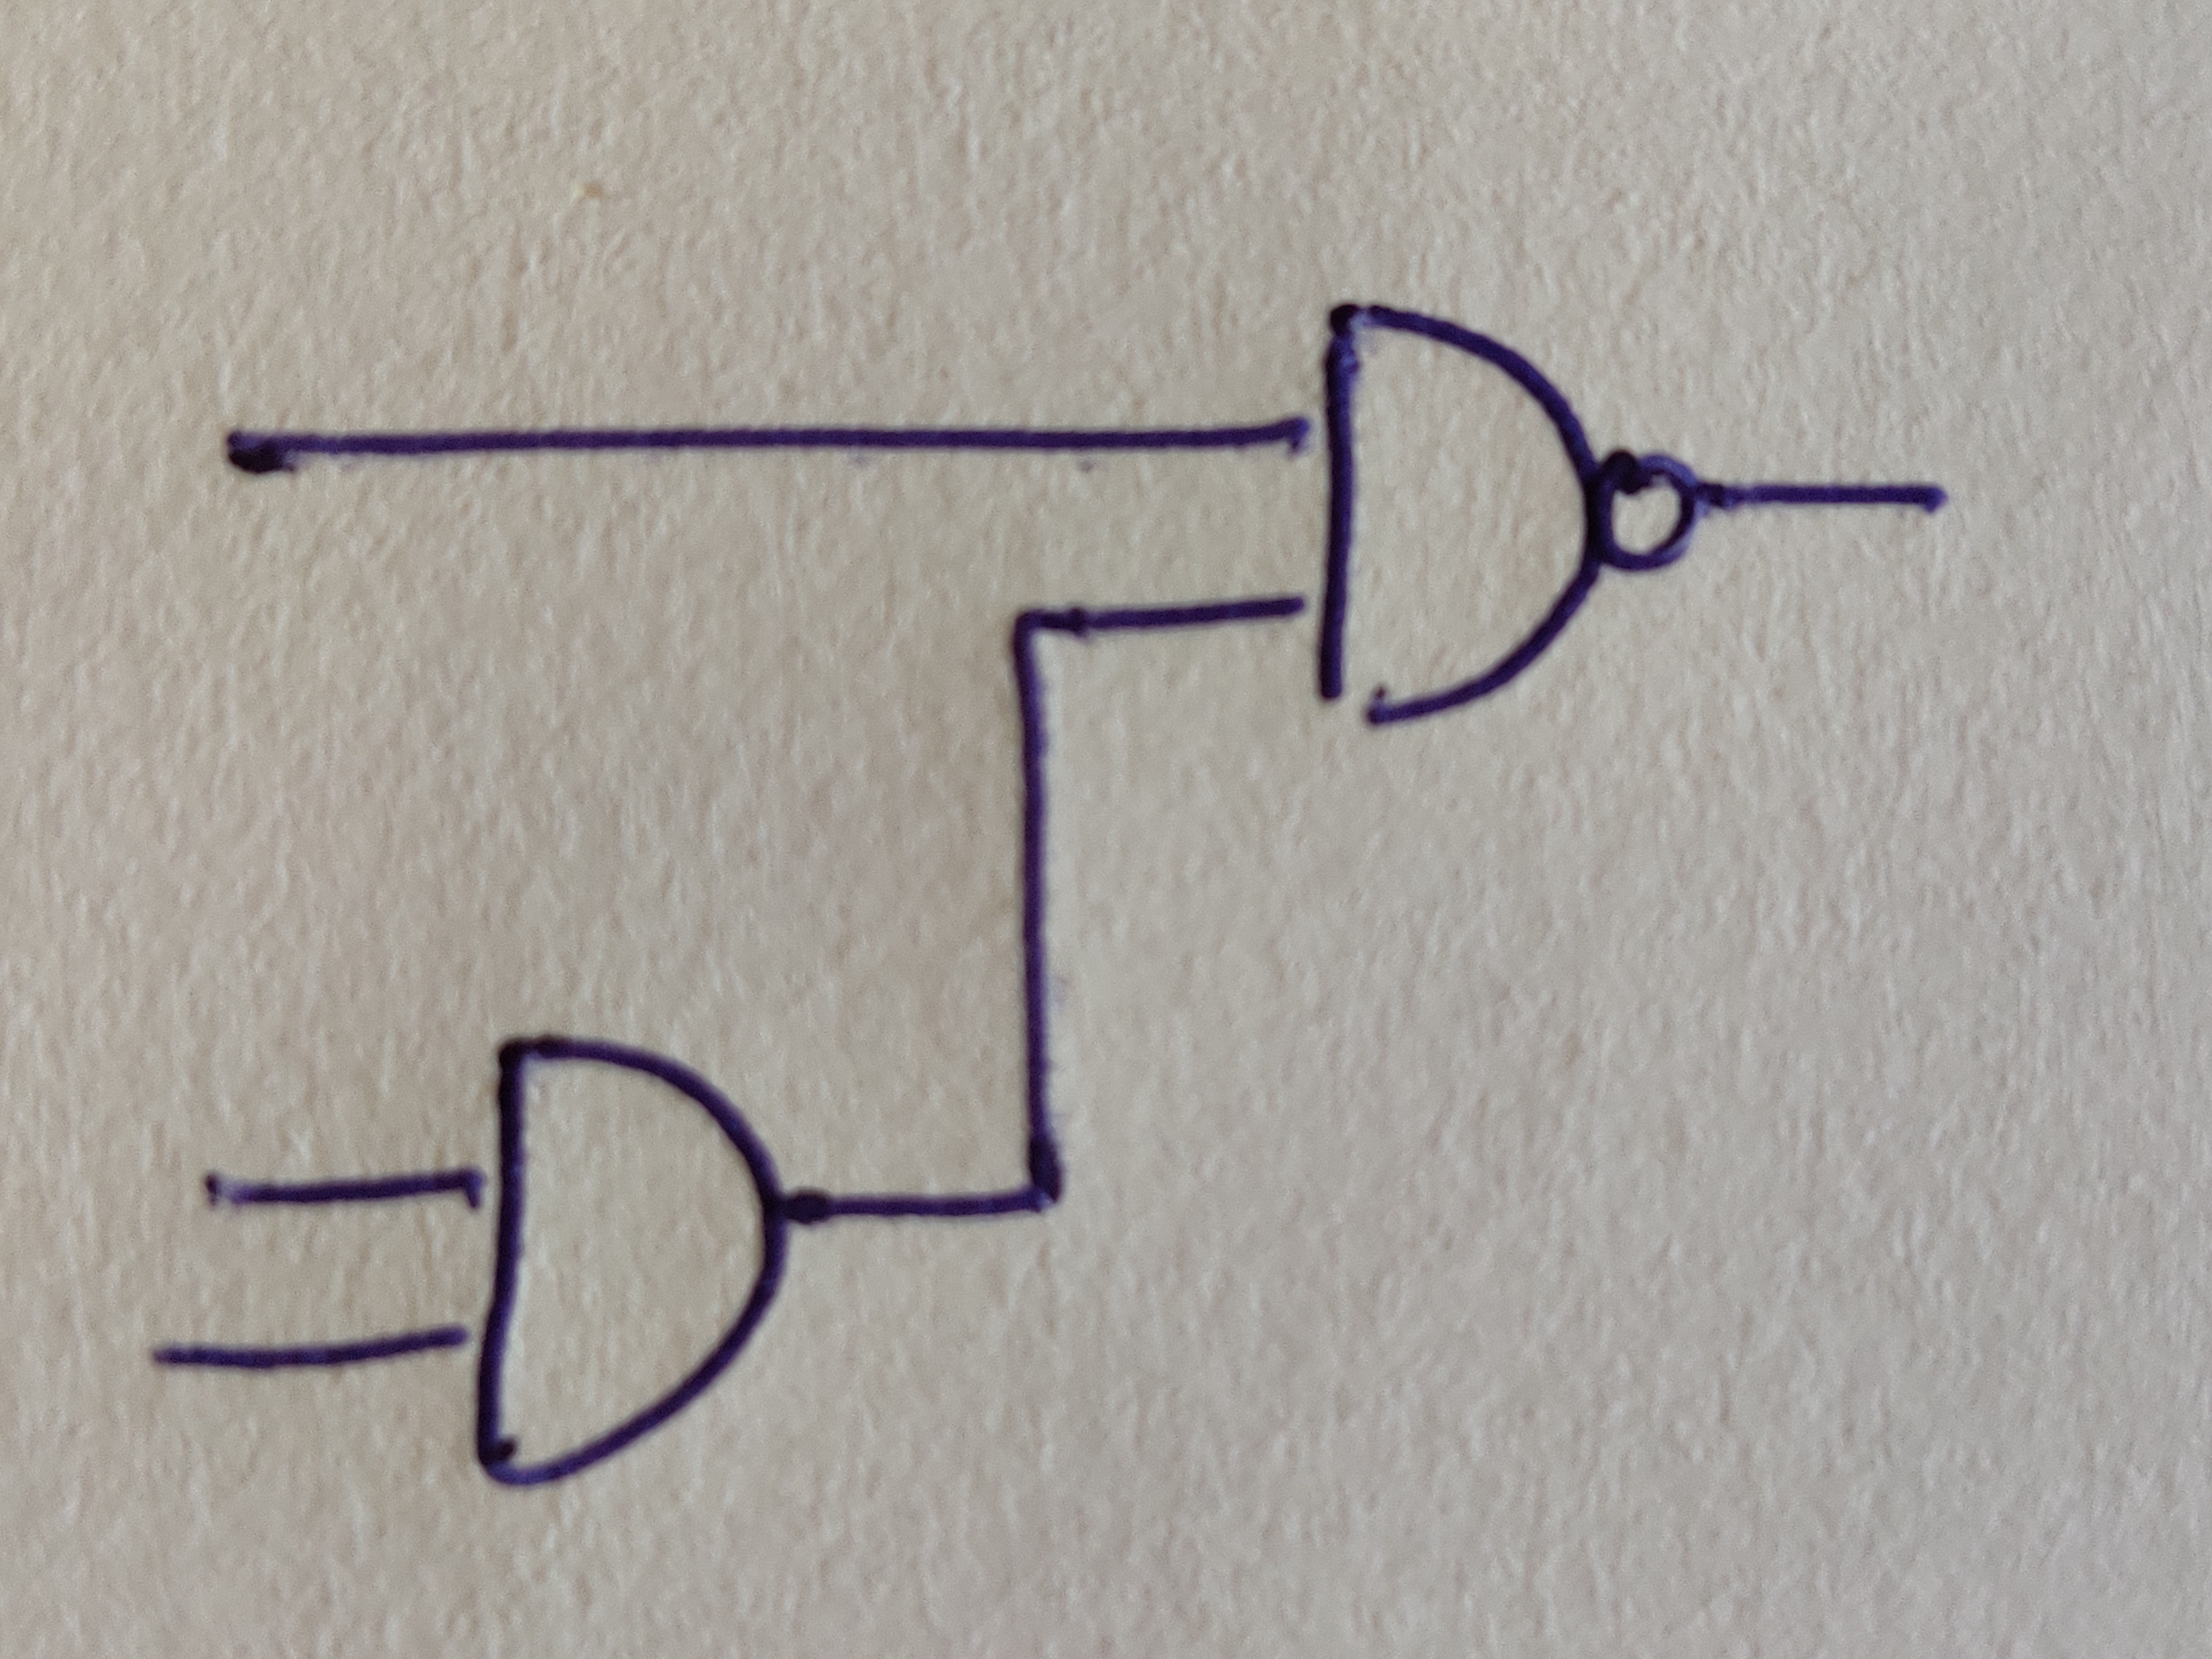and: (474, 1033, 789, 1488), (1320, 303, 1602, 728)
not: (1599, 446, 1700, 573)
